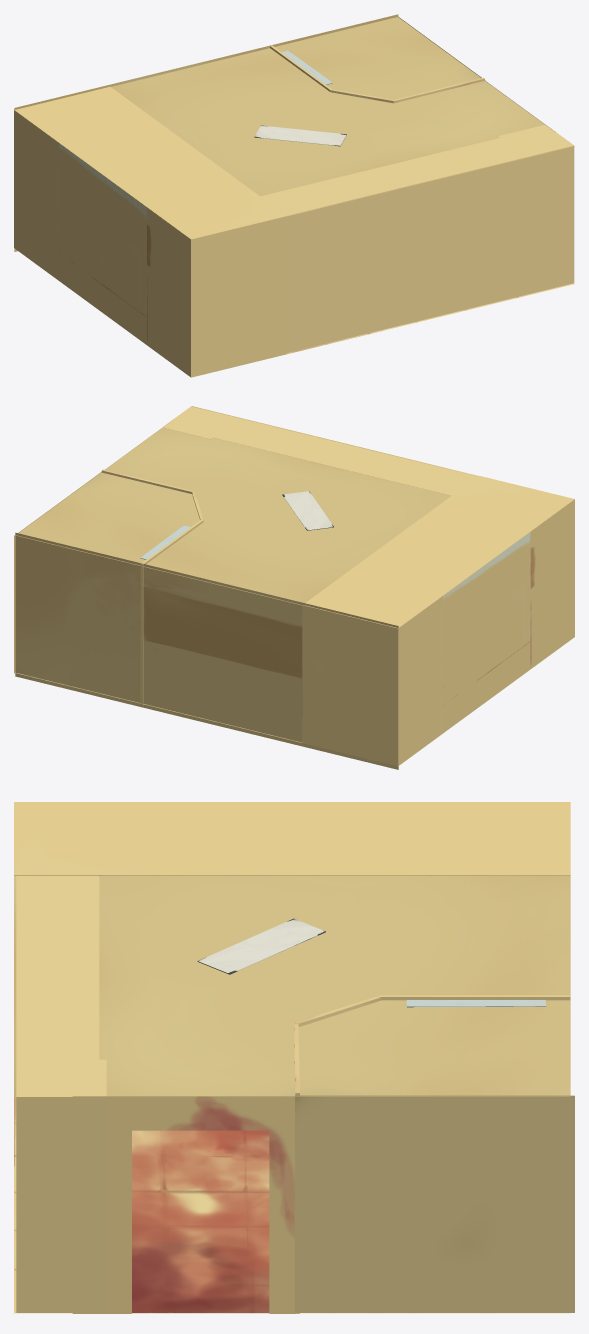
Rendered from Room508.fbx.
3 views of the same model, one above another, from view 1: azimuth 30°, elevation 25°; view 2: azimuth 150°, elevation 25°; view 3: azimuth 270°, elevation 25° (orthographic). The views are drawn at different scales.
Parts seen in each view (by area): view 1: Plane, Meuble, Ceiling, Plane.001, Room Light, Bathroom Walls; view 2: Plane, Plane.001, Ceiling, Meuble, Bathroom Walls, Room Light; view 3: Ceiling, Plane, Plane.002, Meuble, Entrance, Room Light, Bathroom Walls, Bathroom Light.
Boxes of the visible parts, <box> form: Plane: <box>14,86,574,377</box>; Meuble: <box>260,124,574,352</box>; Ceiling: <box>111,17,574,216</box>; Plane.001: <box>14,14,398,251</box>; Room Light: <box>254,125,346,146</box>; Bathroom Walls: <box>270,45,484,103</box>; Plane: <box>15,475,574,766</box>; Plane.001: <box>15,532,398,769</box>; Ceiling: <box>16,406,478,605</box>; Meuble: <box>163,406,477,495</box>; Bathroom Walls: <box>101,469,203,705</box>; Room Light: <box>282,491,333,530</box>; Ceiling: <box>14,876,570,1096</box>; Plane: <box>14,802,570,1313</box>; Plane.002: <box>295,1095,574,1312</box>; Meuble: <box>16,876,106,1312</box>; Entrance: <box>72,1096,295,1313</box>; Room Light: <box>197,918,325,974</box>; Bathroom Walls: <box>294,995,570,1313</box>; Bathroom Light: <box>406,1000,546,1007</box>.
Bounding box in the file's own units: 1000 × 359 × 805.
